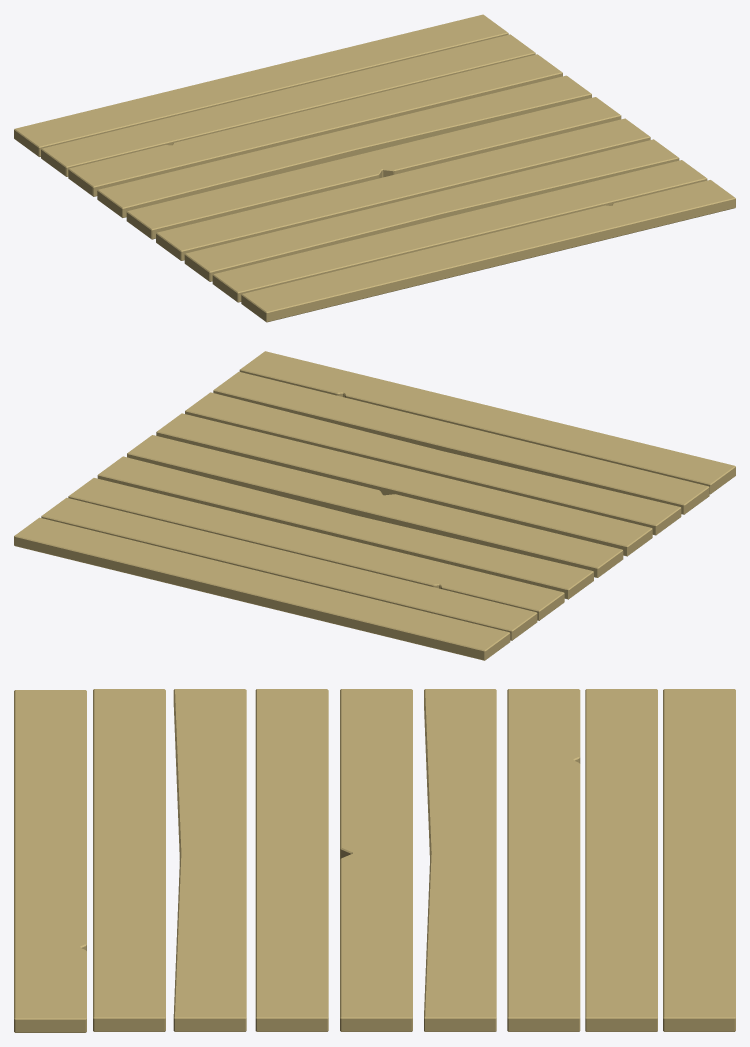
The model's file is planks.fbx.
The picture shows the model from 3 angles, top to bottom: view 1: azimuth 30°, elevation 25°; view 2: azimuth 150°, elevation 25°; view 3: azimuth 270°, elevation 25°; orthographic projection. The views are drawn at different scales.
Visible parts, largest first — view 1: Plank2, Plank 1, Plank4, Plank 5, Plank 8, Plank9, Plank3, Plank 6, Plank 7; view 2: Plank 7, Plank 1, Plank 8, Plank3, Plank4, Plank2, Plank9, Plank 5, Plank 6; view 3: Plank 5, Plank 8, Plank 1, Plank2, Plank 7, Plank3, Plank 6, Plank9, Plank4.
Part boxes in pixels (x1,y1,x2,y2): Plank2: (241, 180, 735, 322); Plank 1: (126, 97, 621, 239); Plank4: (97, 75, 591, 217); Plank 5: (68, 54, 562, 196); Plank 8: (156, 118, 650, 260); Plank9: (184, 139, 679, 281); Plank3: (212, 160, 707, 302); Plank 6: (41, 34, 535, 176); Plank 7: (14, 14, 508, 156); Plank 7: (14, 517, 510, 660); Plank 1: (127, 435, 623, 577); Plank 8: (156, 413, 652, 556); Plank3: (213, 372, 709, 514); Plank4: (97, 456, 593, 599); Plank2: (239, 351, 735, 494); Plank9: (185, 392, 681, 535); Plank 5: (68, 478, 564, 620); Plank 6: (41, 497, 537, 640); Plank 5: (507, 689, 580, 1031); Plank 8: (255, 689, 328, 1031); Plank 1: (340, 689, 412, 1031); Plank2: (14, 690, 86, 1032); Plank 7: (663, 689, 735, 1031); Plank3: (93, 689, 165, 1031); Plank 6: (585, 689, 657, 1031); Plank9: (173, 689, 246, 1031); Plank4: (424, 689, 496, 1031).
Bounding box in the file's own units: 201 × 4.28 × 185.
